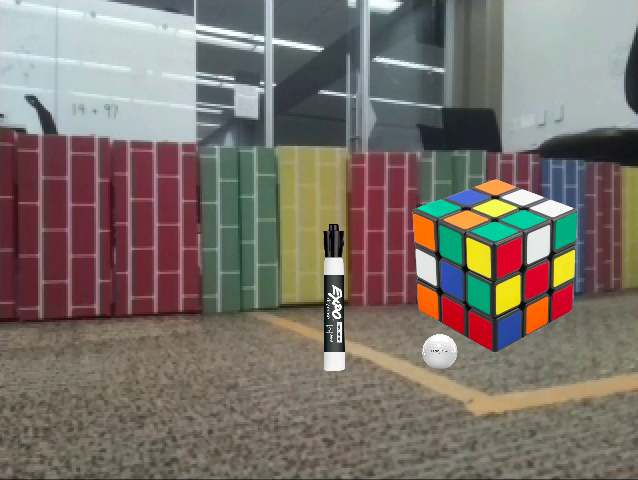ball: (422, 334, 458, 370)
